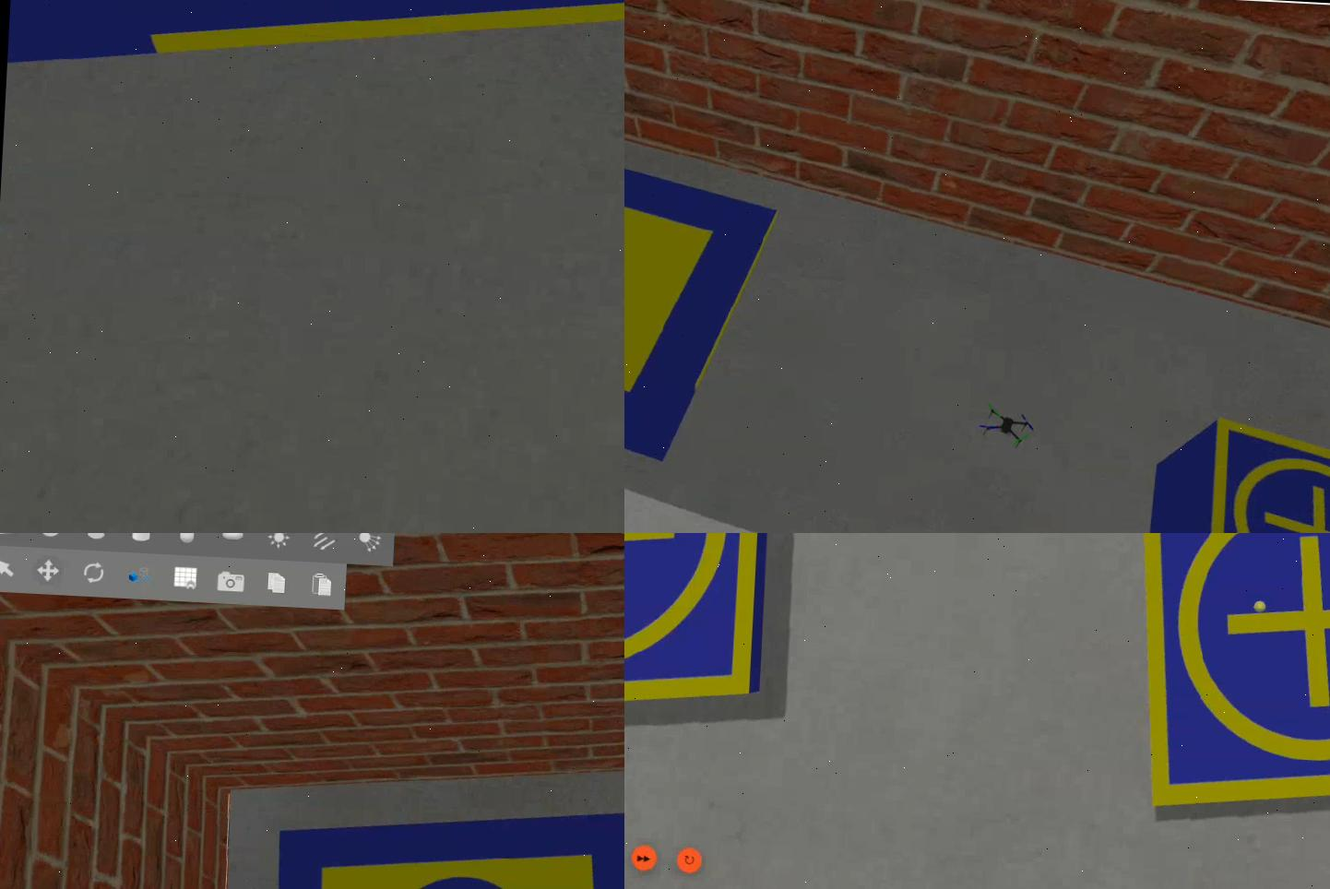large_base: (8, 1, 625, 101), (625, 99, 788, 473), (259, 795, 625, 889)
small_base: (1124, 534, 1330, 832), (625, 534, 773, 710), (1200, 415, 1330, 534)
